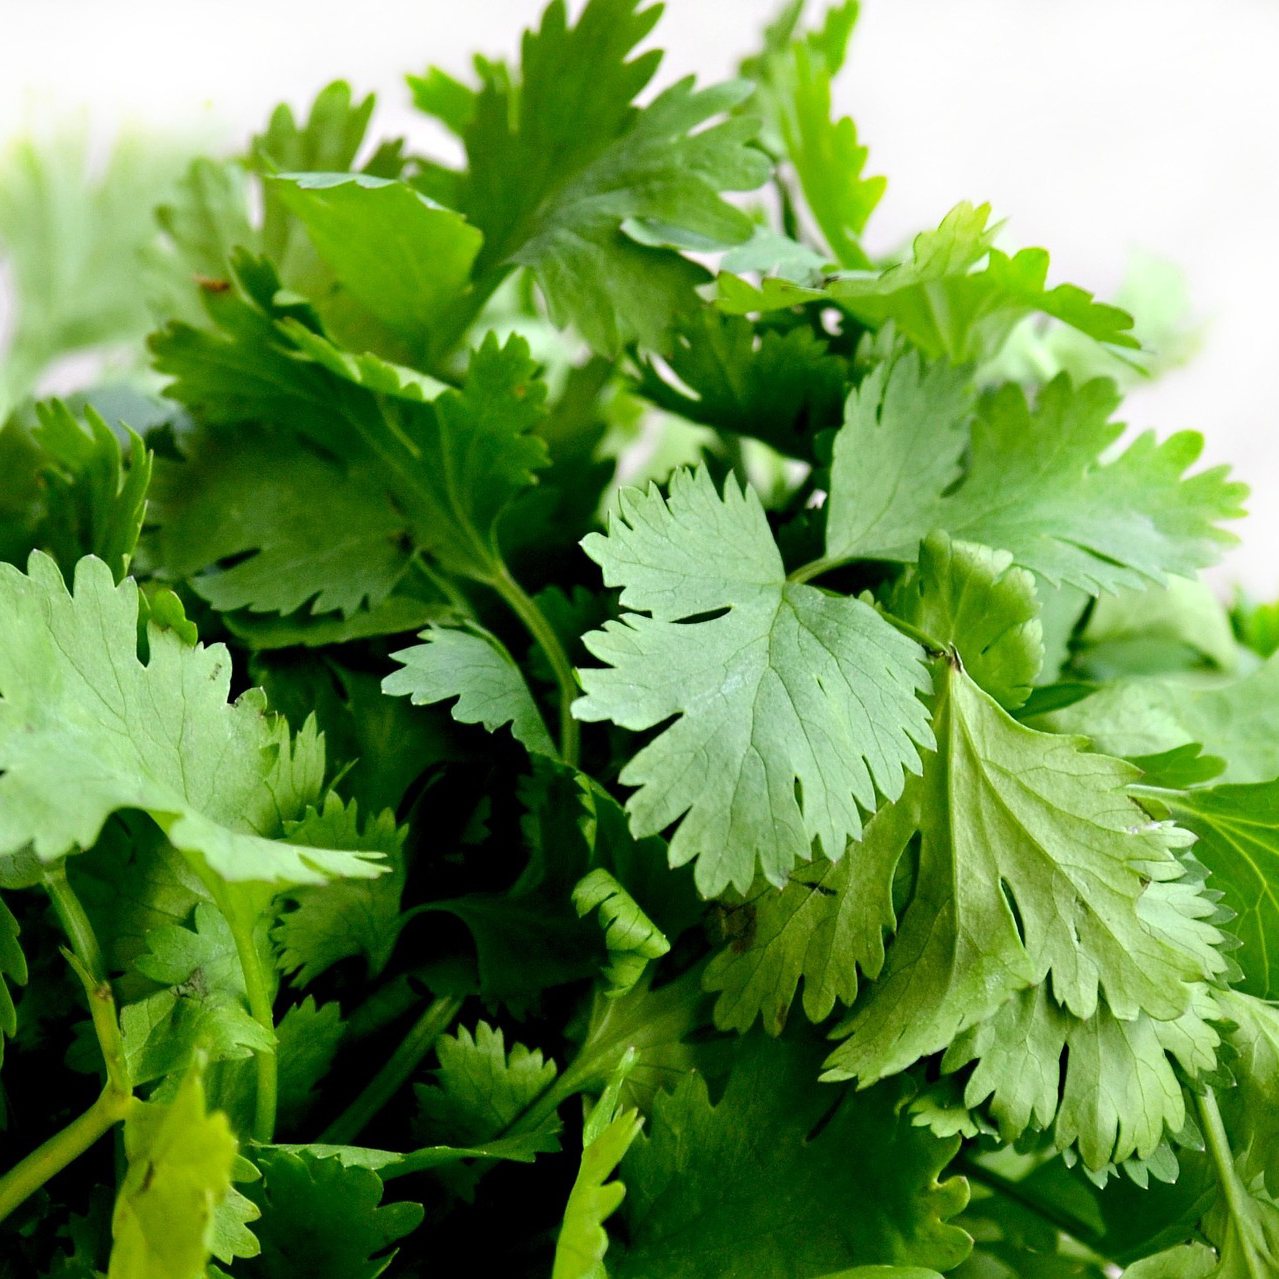Cilantro: (1, 5, 1279, 1277)
